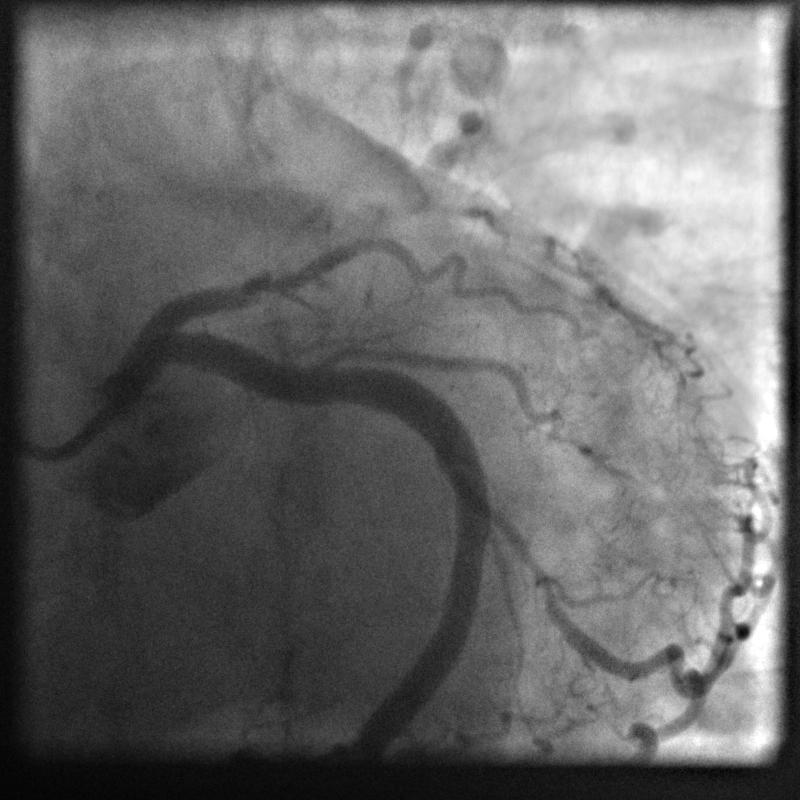Stenosis: (478, 482, 562, 612)
